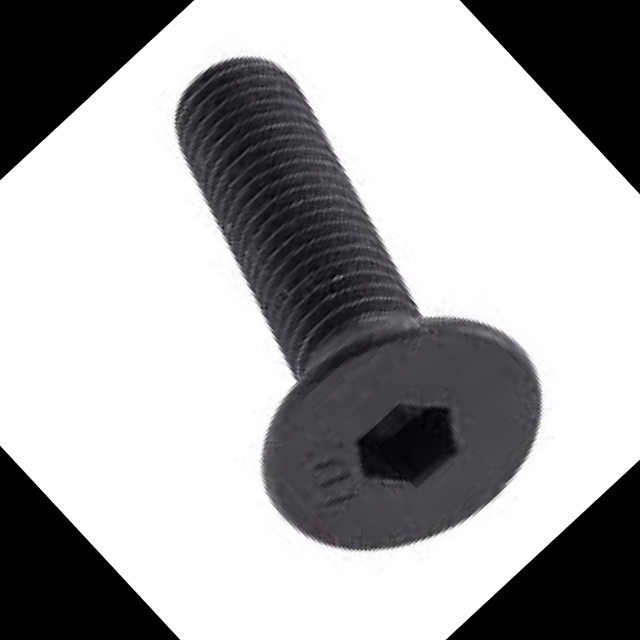torx: (223, 252, 588, 613)
